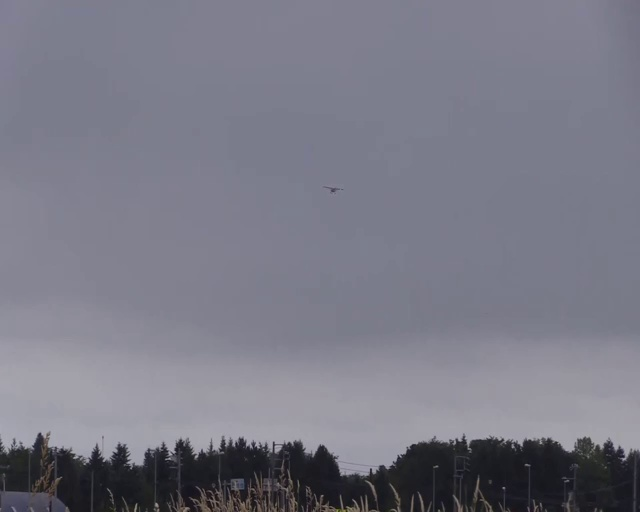AIRPLANE: (323, 185, 344, 194)
